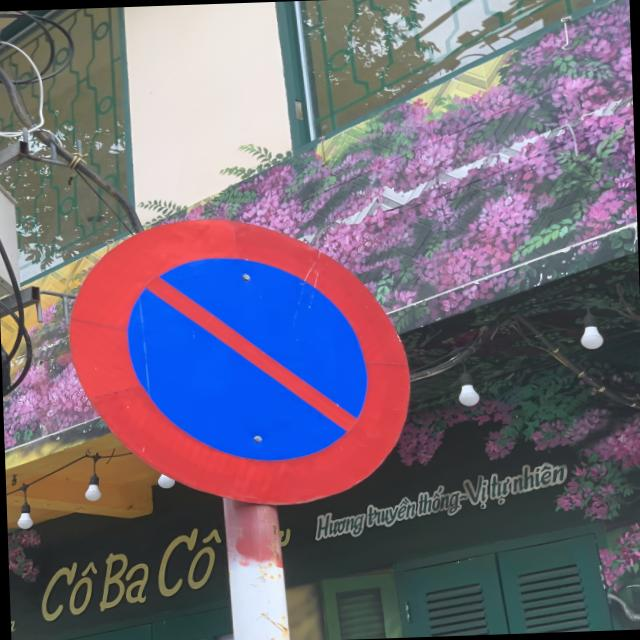Cam_Dau_Xe: (69, 212, 412, 516)
